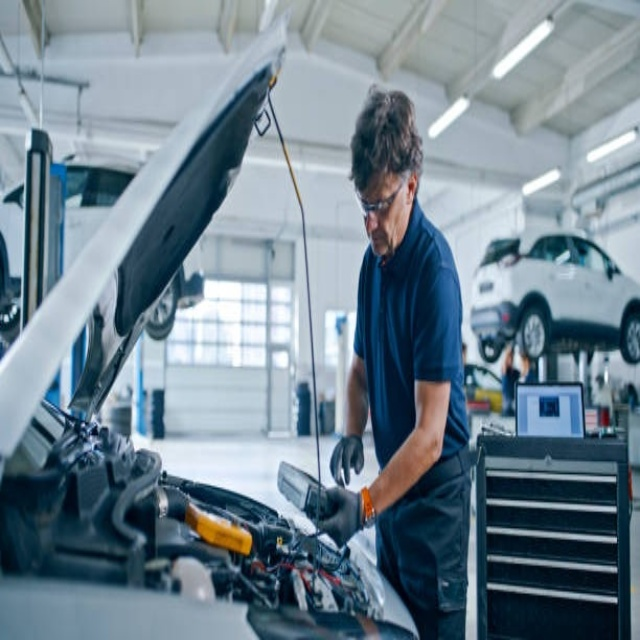Gafas: (356, 175, 407, 216)
Guantes: (317, 483, 363, 547), (330, 435, 364, 488)
Sin_mascara: (365, 229, 389, 259)
